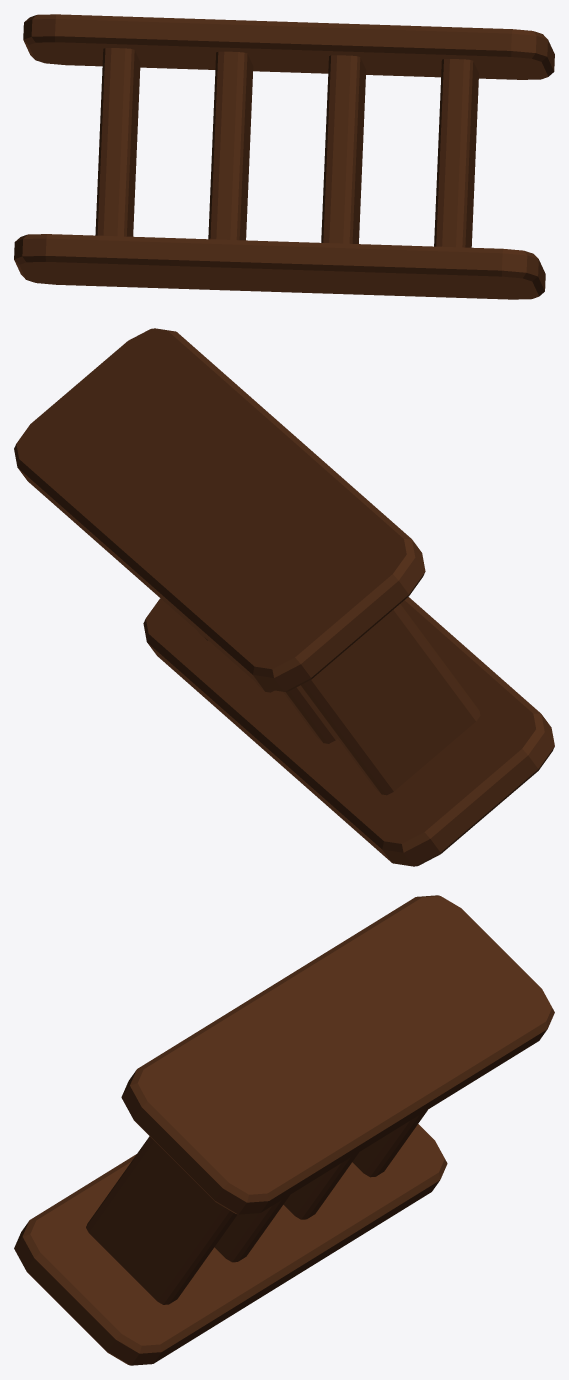
File: ladder4.glb
3 views of the same model, one above another, from view 1: azimuth 30°, elevation 25°; view 2: azimuth 150°, elevation 25°; view 3: azimuth 270°, elevation 25° (orthographic). The views are drawn at different scales.
Visible parts, largest first — view 1: Cube.023, Cube.022, Cube.024; view 2: Cube.024, Cube.022, Cube.023; view 3: Cube.024, Cube.022, Cube.023.
Part boxes in pixels (x1=…): Cube.023: x1=95, y1=48, x2=478, y2=247; Cube.022: x1=14, y1=234, x2=545, y2=299; Cube.024: x1=23, y1=14, x2=554, y2=79; Cube.024: x1=14, y1=328, x2=425, y2=691; Cube.022: x1=143, y1=597, x2=554, y2=866; Cube.023: x1=198, y1=604, x2=480, y2=795; Cube.024: x1=121, y1=895, x2=554, y2=1214; Cube.022: x1=14, y1=1124, x2=447, y2=1365; Cube.023: x1=86, y1=1110, x2=427, y2=1304.
Size of the model in its own units: 0.2564 by 0.1361 by 0.2276.
